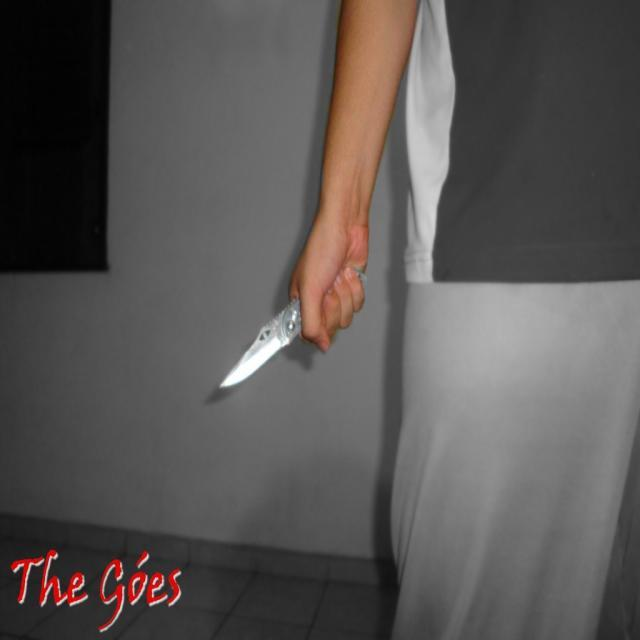Knife: (220, 300, 300, 388)
